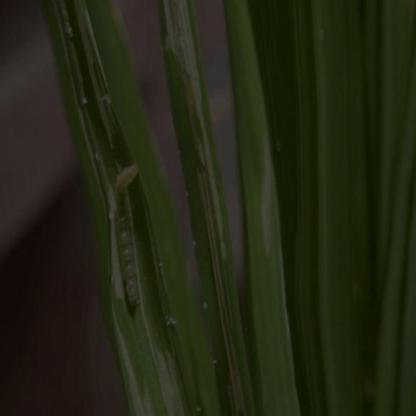leaf-folder: (89, 140, 161, 323)
